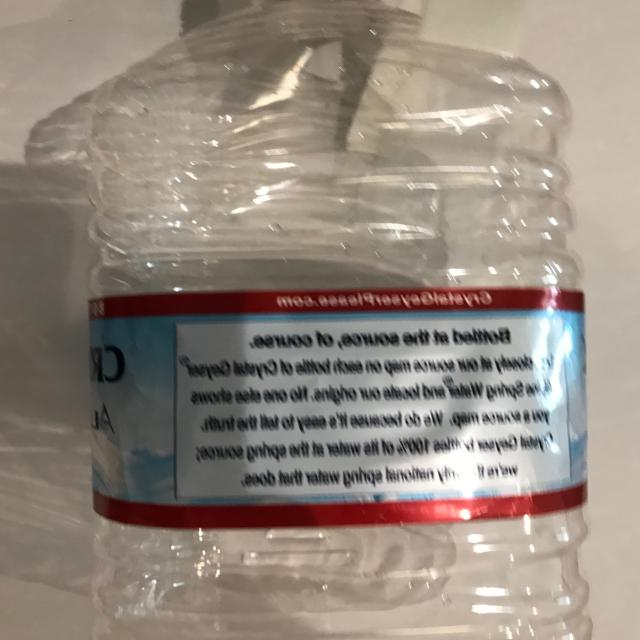plastic: (46, 0, 588, 640)
